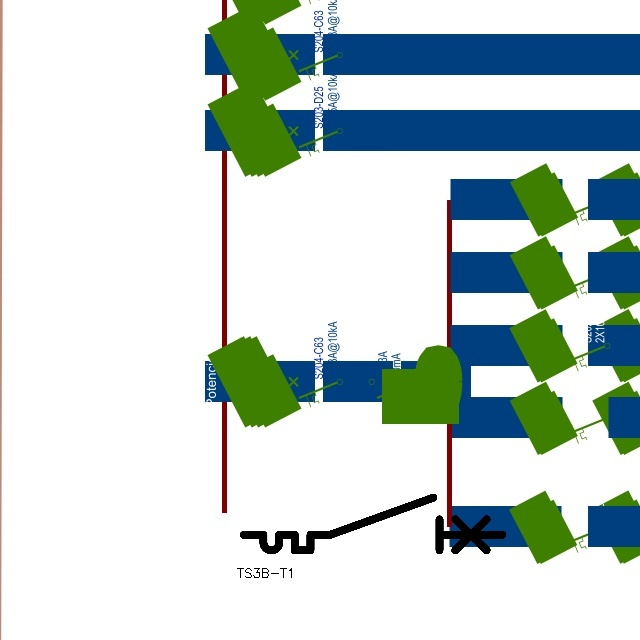interruptor_termomagnetico: (237, 491, 509, 557)
